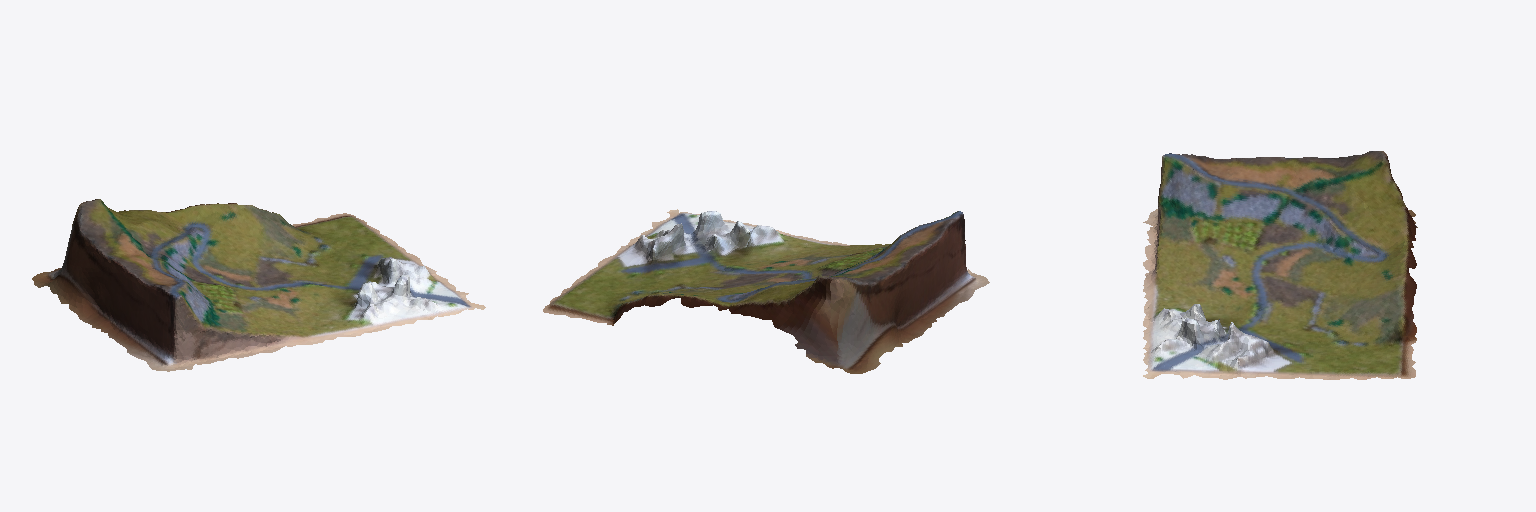
3 renders of one model, left to right at view 1: azimuth 30°, elevation 25°; view 2: azimuth 150°, elevation 25°; view 3: azimuth 270°, elevation 25°, orthographic.
Parts seen in each view (by area): view 1: mesh; view 2: mesh; view 3: mesh.
Part boxes in pixels (bbox=[...]): mesh: bbox=[32, 199, 485, 371]; mesh: bbox=[543, 209, 989, 373]; mesh: bbox=[1143, 151, 1417, 379].
Bounding box in the file's own units: 30.2 × 7.87 × 21.85.
1 materials, 1 textured.